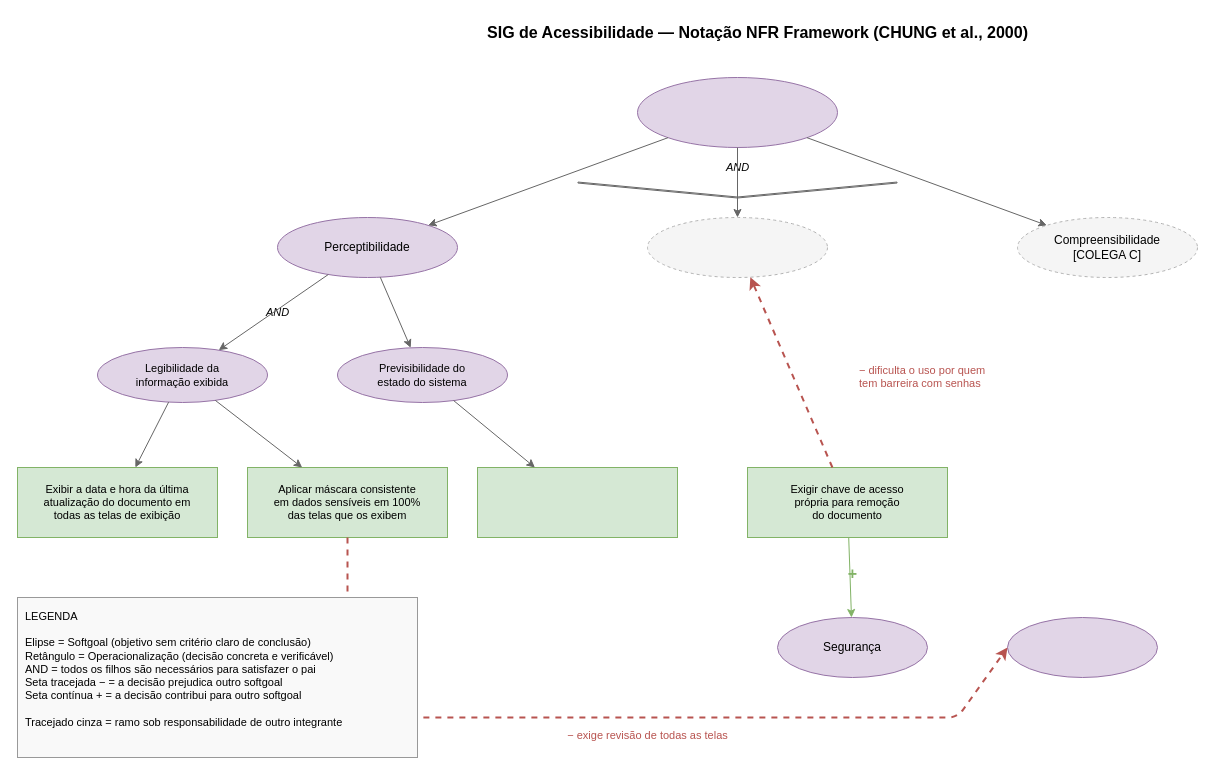
Some shapes in this 1215 by 775 pixel diagram are drawn without their labels. Each missing label, with the box of its shape:
Acessibilidade [Aplicativo CNH]: (636, 76, 838, 148)
Custo de desenvolvimento: (1006, 616, 1158, 678)
Informar as pré-condições antes de o usuário iniciar a solicitação: (476, 466, 678, 538)
Operabilidade [COLEGA B]: (646, 216, 828, 278)
